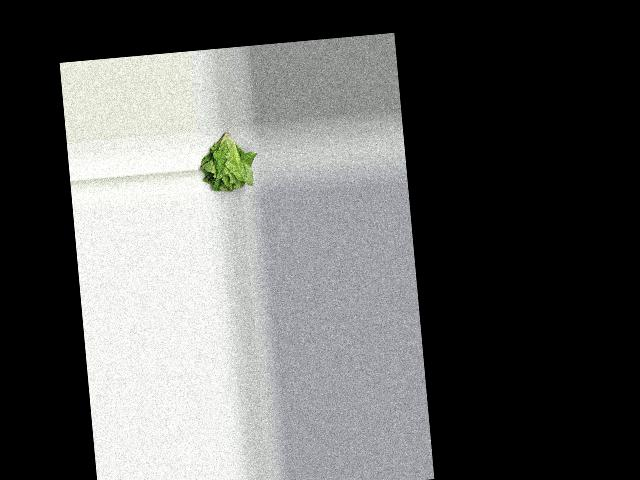lettuce: (197, 127, 254, 197)
